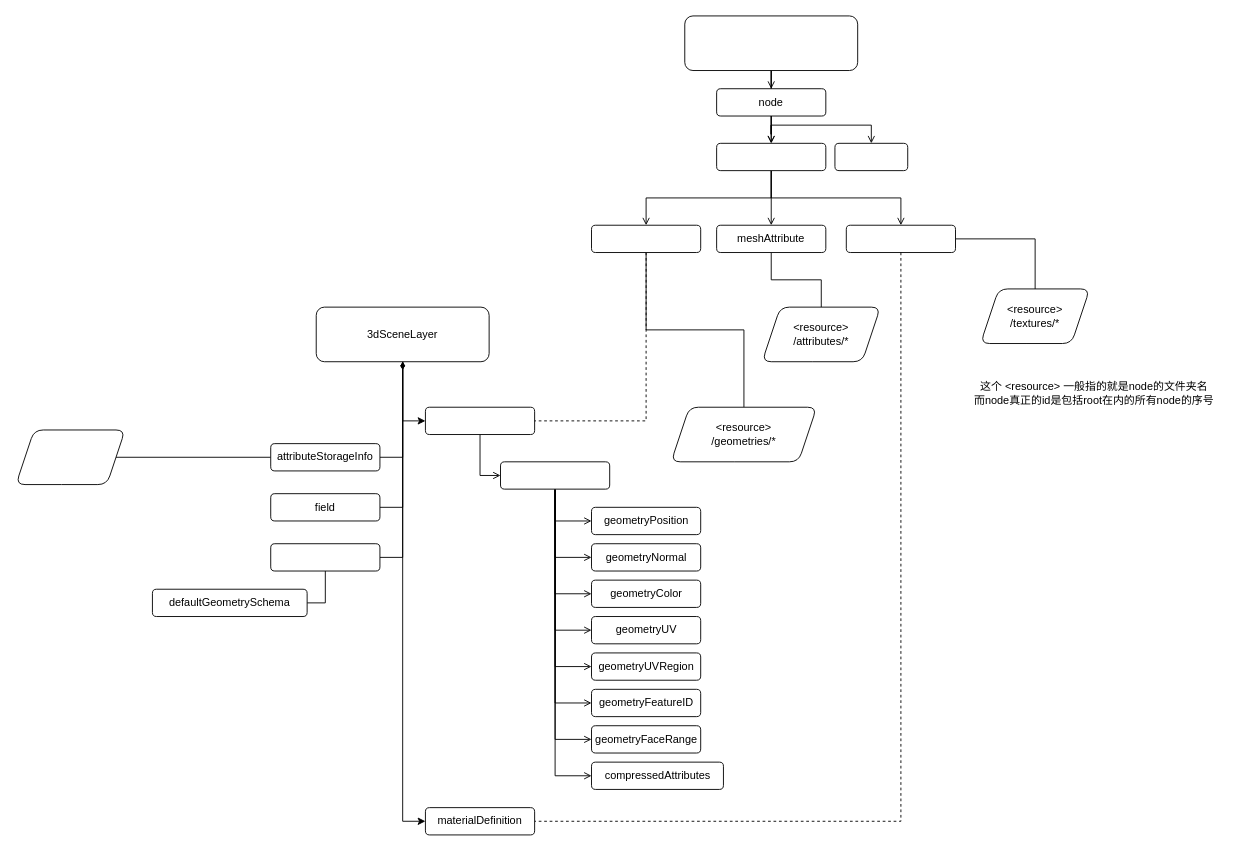
Some shapes in this 1260 by 851 pixel diagram are drawn without their labels. The centre of each missing label's shape, as x and y in pixels:
f_x/0.bin.gz: (70,457)
geometryBuffers: (555,475)
geometryDefinition: (480,420)
mesh: (771,156)
meshGeometry: (646,238)
meshMaterial: (900,238)
nodePages: (771,43)
obb: (871,156)
store: (325,557)
